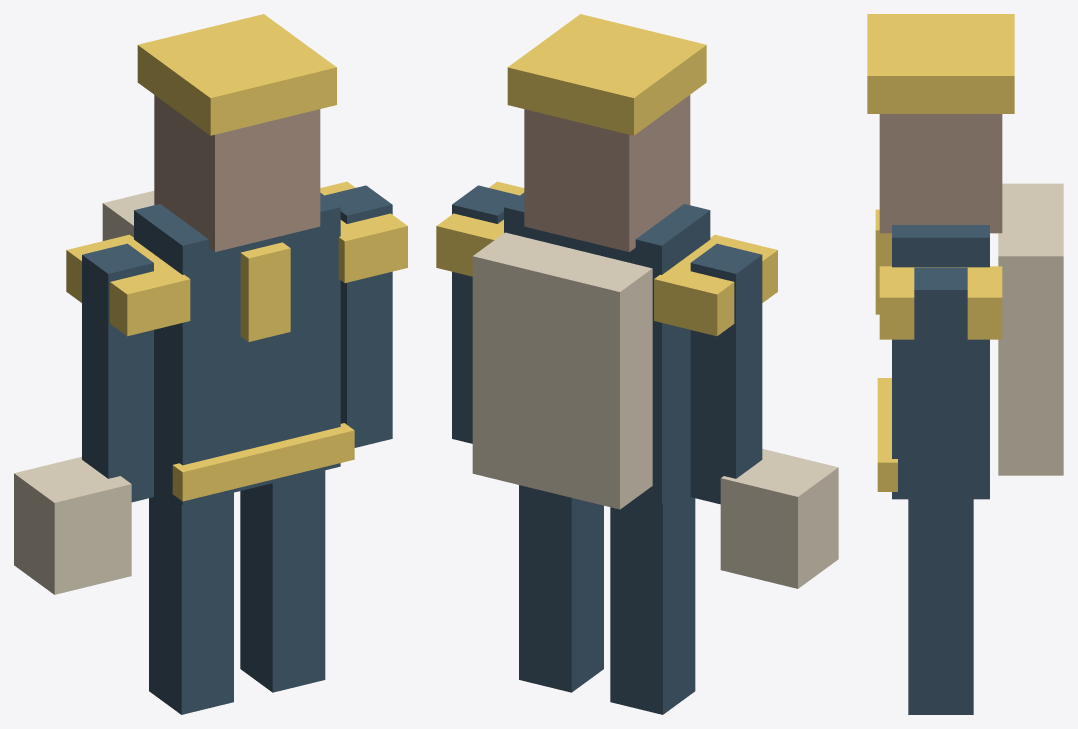
File: 05_sarai_dubwater_tactician_from_mag_rail.glb
The picture shows the model from 3 angles, left to right: view 1: azimuth 30°, elevation 25°; view 2: azimuth 150°, elevation 25°; view 3: azimuth 270°, elevation 25°; orthographic projection.
Parts seen in each view (by area): view 1: Sarai Dubwater, Tactician from Mag-Rail; view 2: Sarai Dubwater, Tactician from Mag-Rail; view 3: Sarai Dubwater, Tactician from Mag-Rail.
Boxes of the visible parts, x1=… form: Sarai Dubwater, Tactician from Mag-Rail: x1=14, y1=14, x2=407, y2=714; Sarai Dubwater, Tactician from Mag-Rail: x1=436, y1=14, x2=838, y2=714; Sarai Dubwater, Tactician from Mag-Rail: x1=867, y1=14, x2=1063, y2=714.
Size of the model in its own units: 0.924 by 1.59 by 0.4457.
